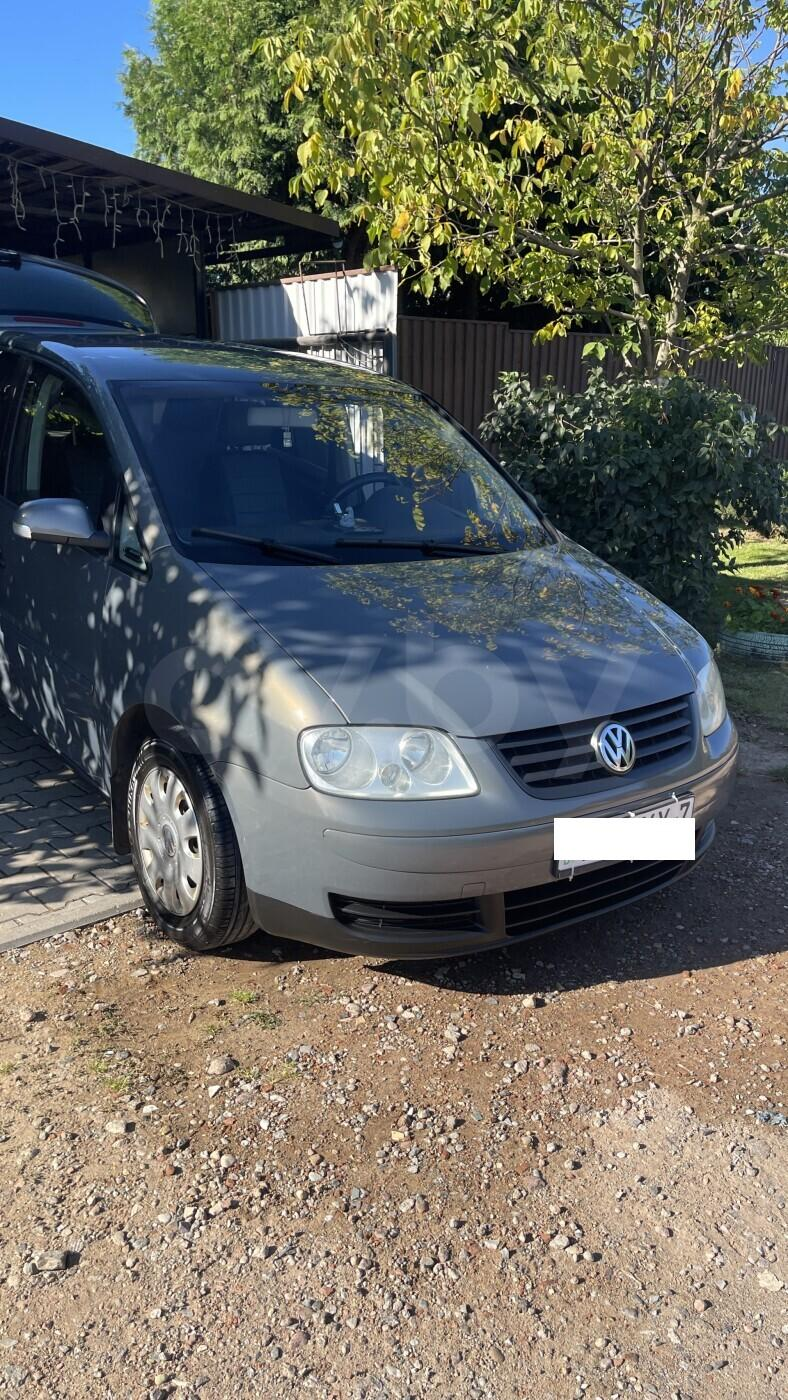Touran_2003-2006: (0, 318, 742, 962)
